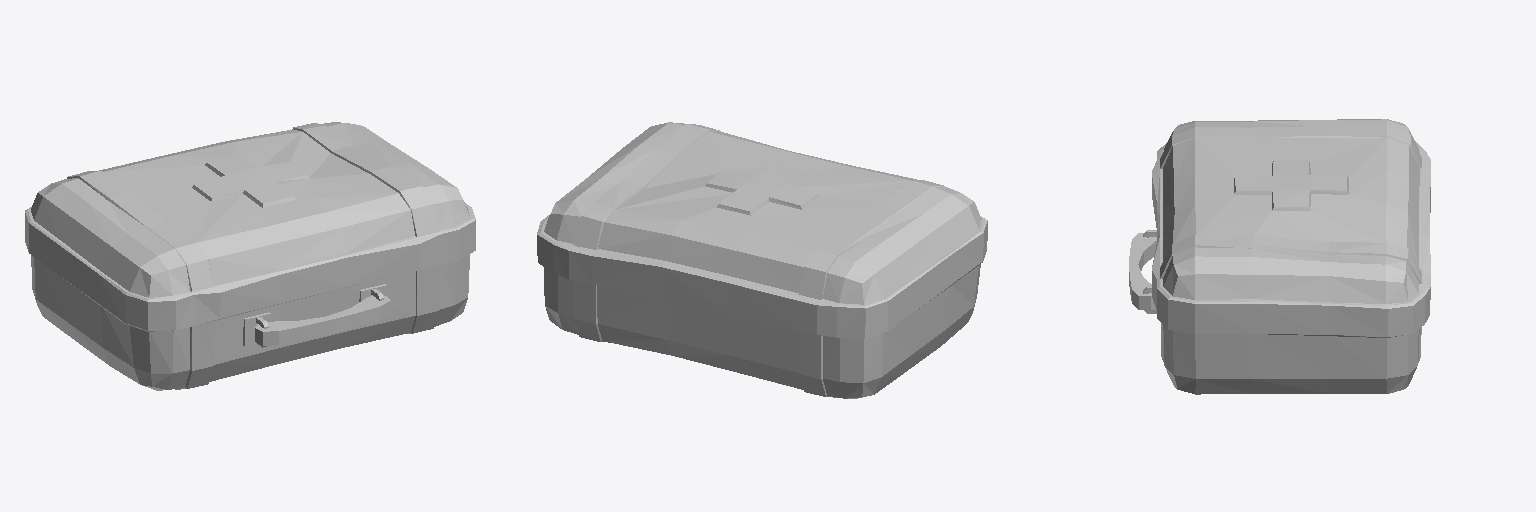
File: medkit3.obj
3 views of the same model, side by side, from view 1: azimuth 30°, elevation 25°; view 2: azimuth 150°, elevation 25°; view 3: azimuth 270°, elevation 25° (orthographic).
Visible parts, largest first — view 1: medikt2:Mesh; view 2: medikt2:Mesh; view 3: medikt2:Mesh.
Part boxes in pixels (x1,y1,x2,y2): medikt2:Mesh: (25,122,475,390); medikt2:Mesh: (537,122,987,398); medikt2:Mesh: (1129,119,1430,394).
Bounding box in the file's own units: 42.09 × 17.07 × 31.69.